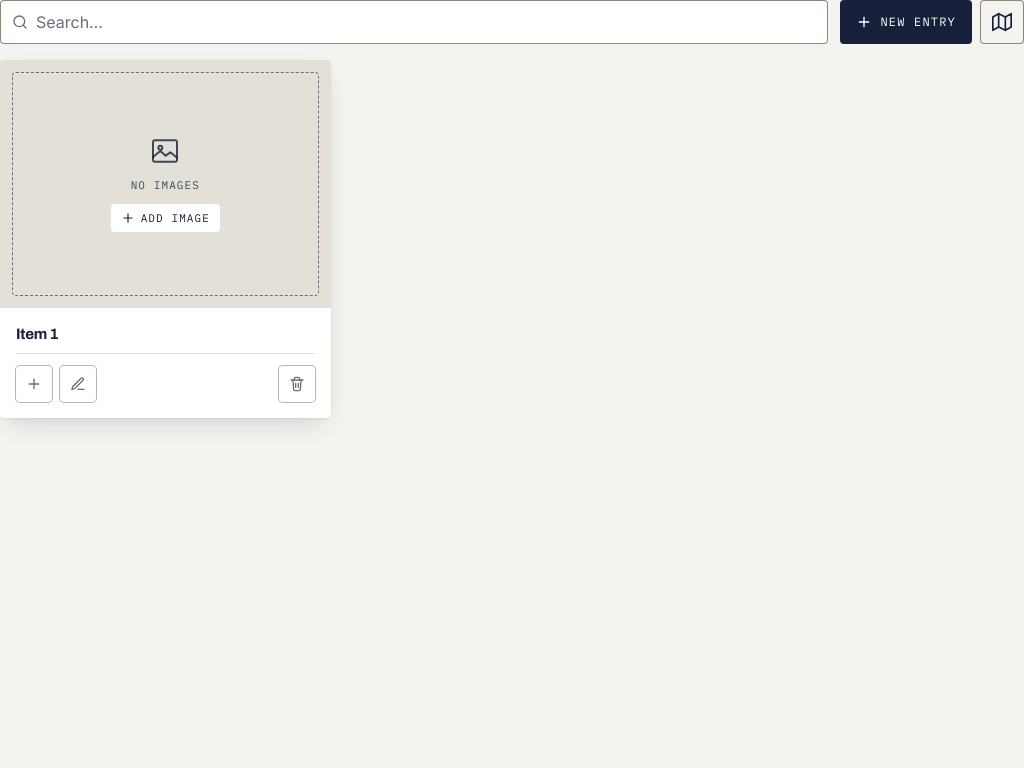
Test: ItemList map modal › opens the map from the toolbar button
This screenshot has width=1024, height=768.
Click the button with test id "open-map" at x=1002, y=22, box left=980, top=0, right=1023, bottom=44
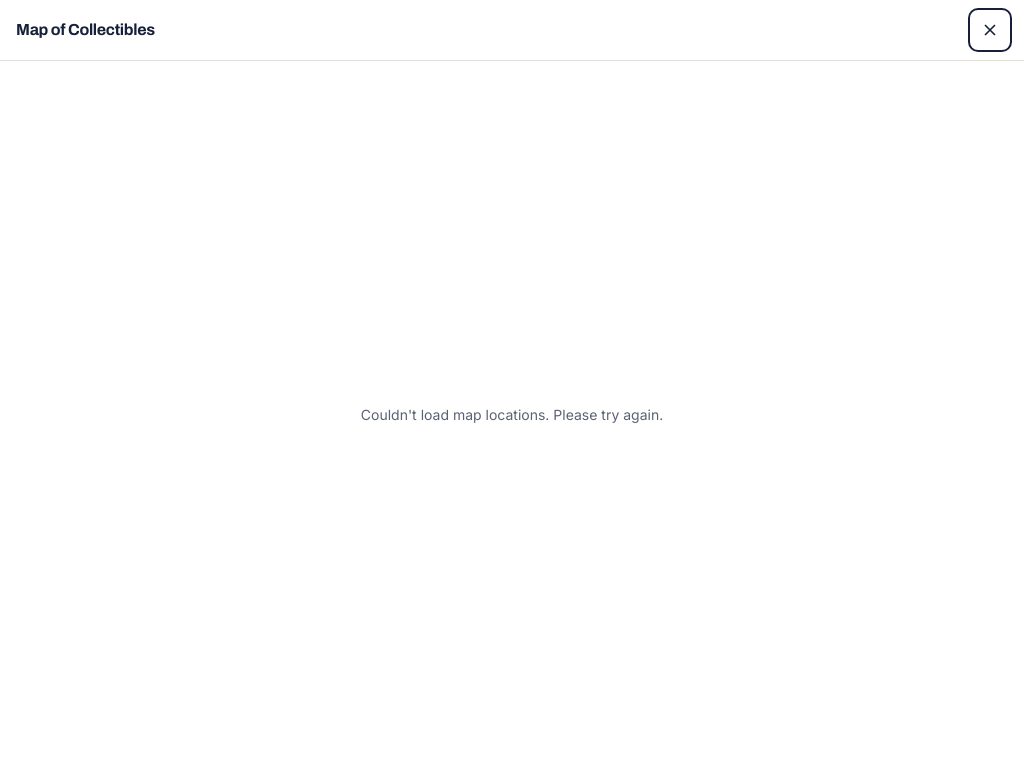
expect the dialog "Map of Collectibles" is shown: met
